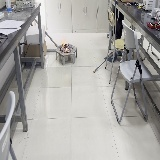fire: (61, 38, 69, 52)
